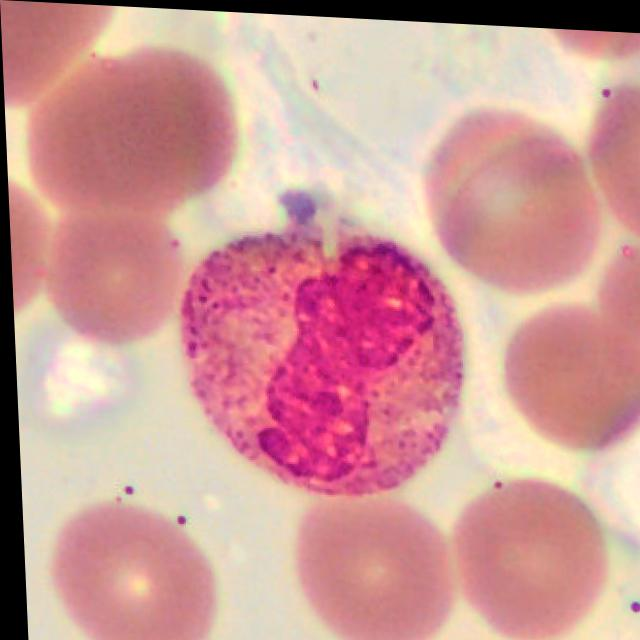Metamielocito: (179, 216, 463, 495)
